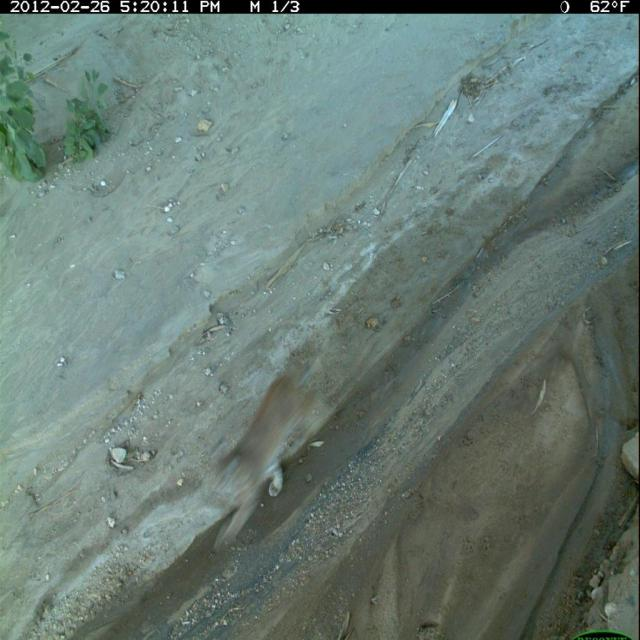bobcat: (207, 359, 328, 557)
